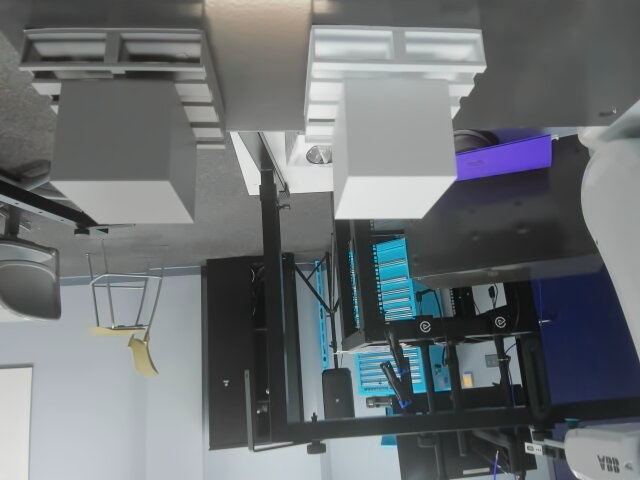grey pallet: (8, 17, 251, 228)
white pallet: (293, 18, 495, 225)
